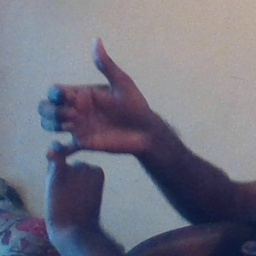S: (36, 43, 151, 213)
